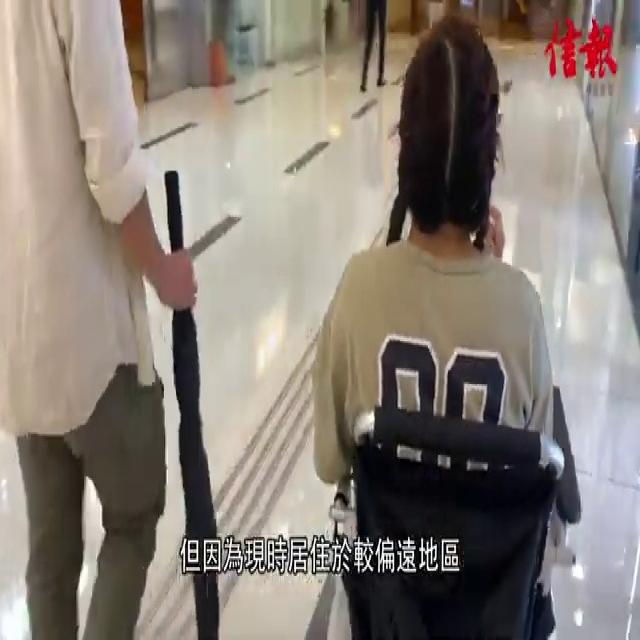wheelchairs: (316, 313, 600, 636)
